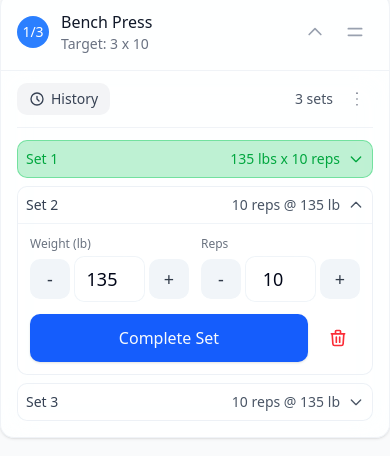
Scenario: ExerciseAccordion › completed set editing › should show editable inputs when Edit button is clicked
This screenshot has width=390, height=456.
// Expand the set accordion
Click the button "Set 1 135 lbs x 10 reps" at (324, 158), box [18,141,372,177]
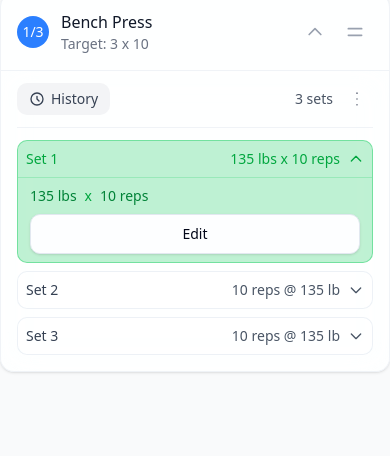
Expected: the button "Edit" is shown
Click the button "Edit" at (195, 234), box [30,214,360,254]
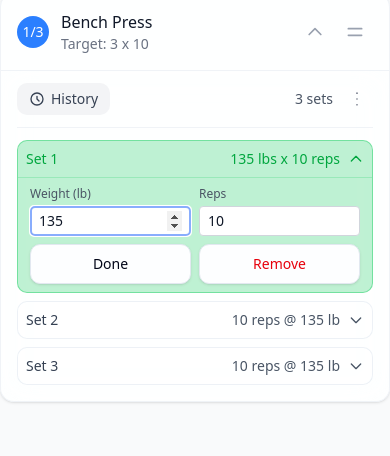
Expected: the number field showing "135" below "Weight (" is shown, [30,206,191,236]
